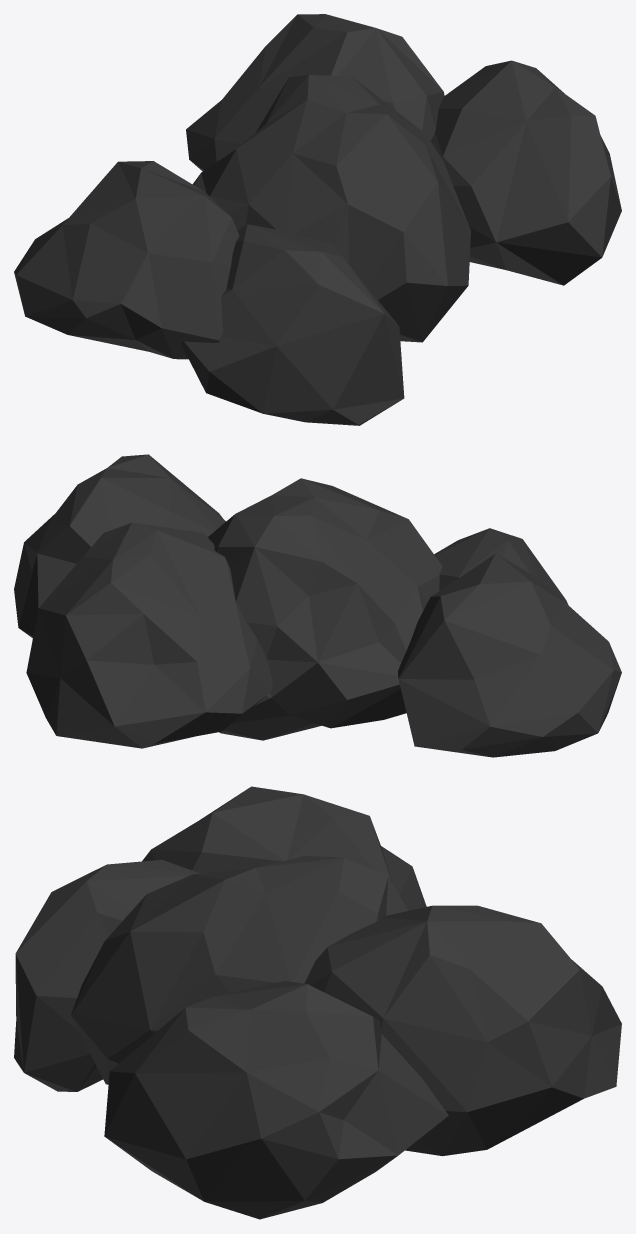
The model's file is pedraGrup3.fbx.
3 renders of one model, top to bottom at view 1: azimuth 30°, elevation 25°; view 2: azimuth 150°, elevation 25°; view 3: azimuth 270°, elevation 25°, orthographic. The views are drawn at different scales.
Parts seen in each view (by area): view 1: pedraGrup3; view 2: pedraGrup3; view 3: pedraGrup3.
Part boxes in pixels (bbox=[...]): pedraGrup3: bbox=[14, 14, 621, 425]; pedraGrup3: bbox=[14, 454, 621, 757]; pedraGrup3: bbox=[14, 786, 621, 1219].
Size of the model in its own units: 737 by 300 by 599.
